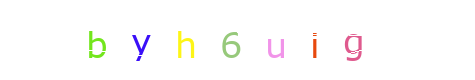6: (167, 0, 247, 80)
B: (55, 0, 135, 80)
G: (301, 0, 381, 80)
H: (144, 0, 224, 80)
I: (246, 0, 326, 80)
U: (198, 0, 278, 80)
Y: (100, 0, 180, 80)
